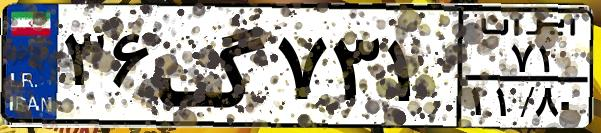0: (560, 70, 590, 125)
1: (385, 28, 445, 110), (537, 27, 568, 80), (470, 70, 495, 125), (495, 70, 520, 125)
3: (330, 28, 385, 110), (57, 26, 110, 100)
6: (110, 28, 156, 98)
7: (270, 28, 330, 110), (508, 27, 537, 80)
8: (535, 70, 560, 125)
گ: (156, 12, 270, 120)
